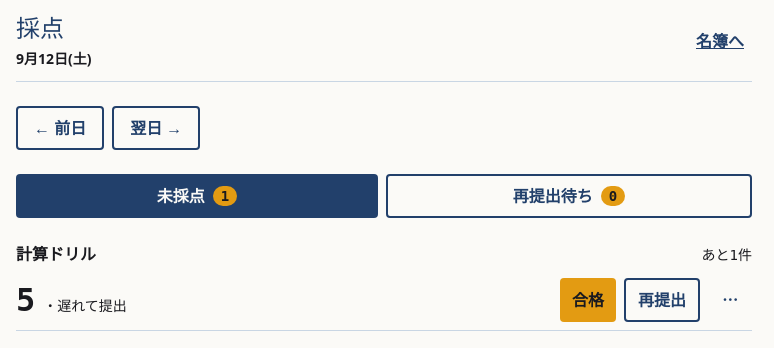
採点画面 › タブを切り替えると表示が変わる
Check: the text "計算ドリル" is shown, box [16,242,96,266]
Click the tab "再提出待ち 0".
click(569, 196)  # box [386,174,752,218]
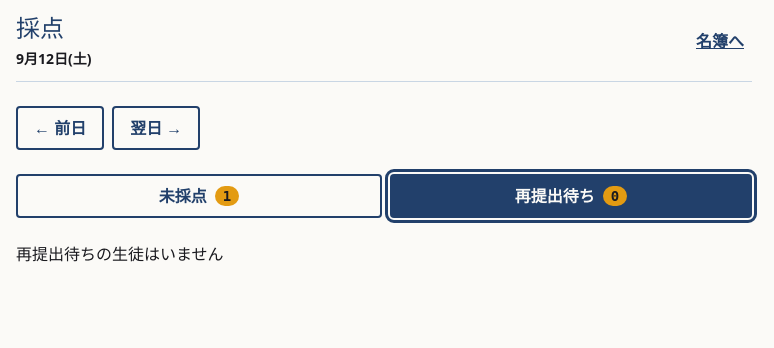
Check: the text "再提出待ちの生徒はいません" is shown, box [16,243,224,265]
Check: the text "計算ドリル" is gone
